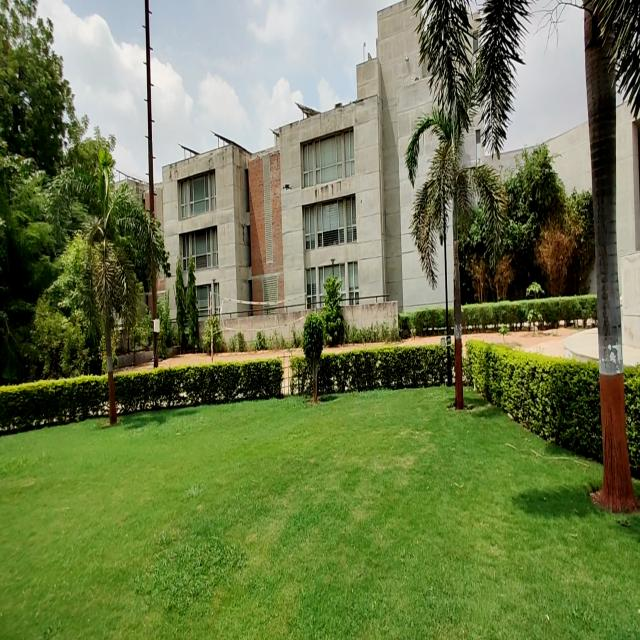drone: (282, 174, 294, 197)
